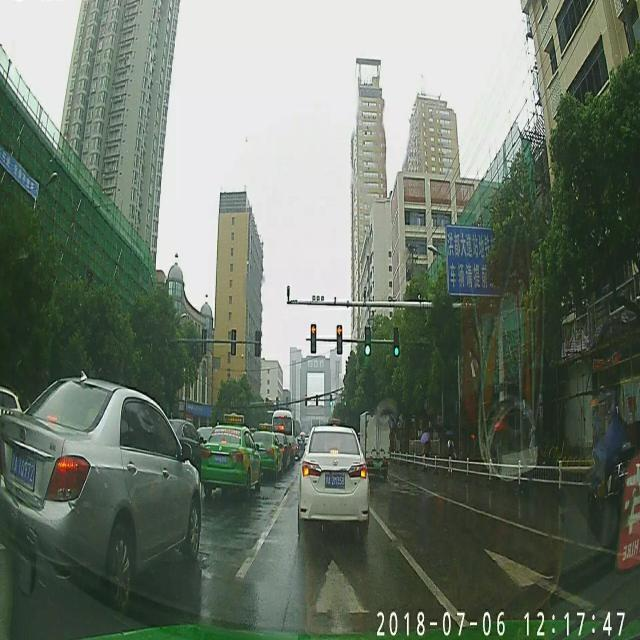car: (3, 372, 201, 590), (298, 421, 368, 533), (202, 417, 262, 492), (253, 422, 284, 476)
